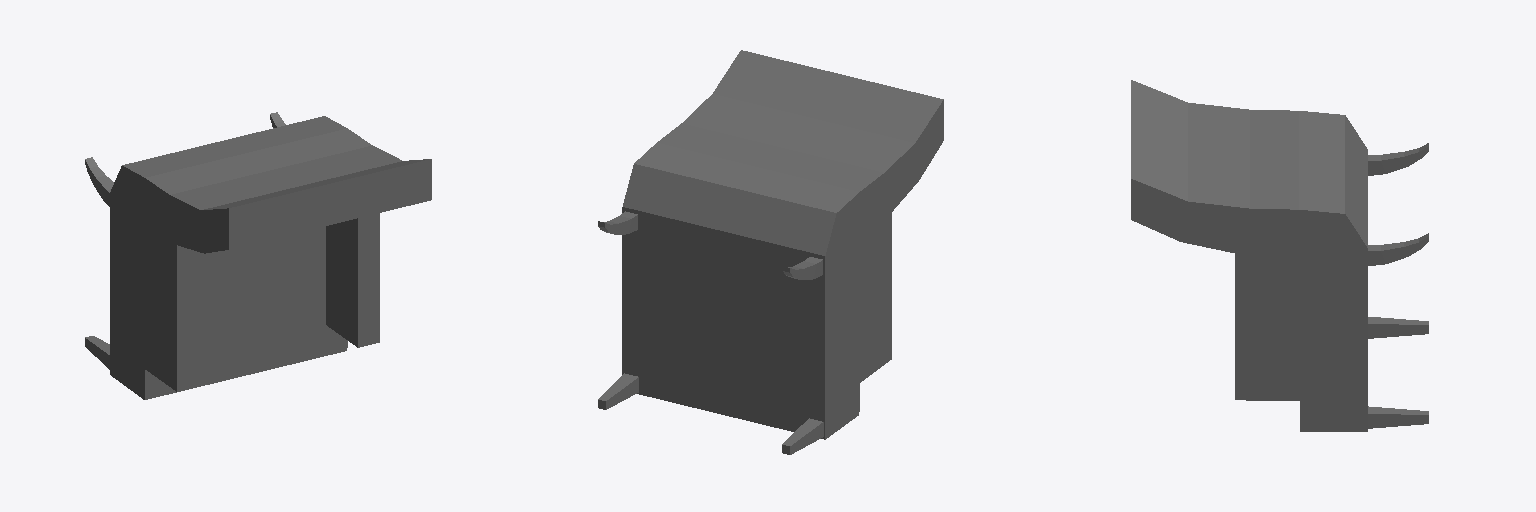
File: chair3.obj
The picture shows the model from 3 angles: view 1: azimuth 30°, elevation 25°; view 2: azimuth 150°, elevation 25°; view 3: azimuth 270°, elevation 25°; orthographic projection.
Parts seen in each view (by area): view 1: Mesh; view 2: Mesh; view 3: Mesh.
Boxes of the visible parts, x1=… form: Mesh: x1=85, y1=112, x2=431, y2=399; Mesh: x1=598, y1=50, x2=943, y2=454; Mesh: x1=1131, y1=80, x2=1428, y2=431.
Size of the model in its own units: 2.62 by 3.13 by 3.33.